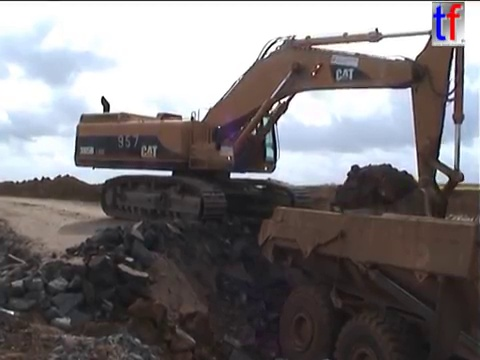excavator: (71, 11, 469, 256)
truck: (253, 186, 480, 360)
